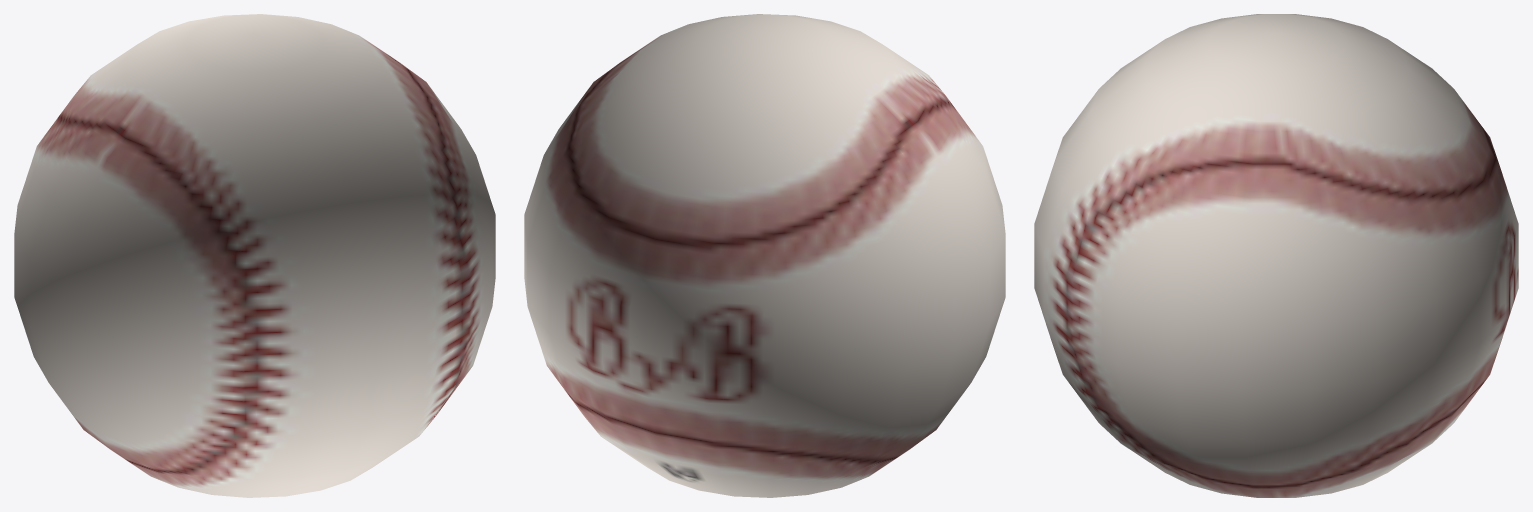
The model's file is view.ico.obj.
3 views of the same model, side by side, from view 1: azimuth 30°, elevation 25°; view 2: azimuth 150°, elevation 25°; view 3: azimuth 270°, elevation 25° (orthographic).
Bounding box in the file's own units: 2.44 × 2.49 × 2.47.
1 material, 1 textured.
